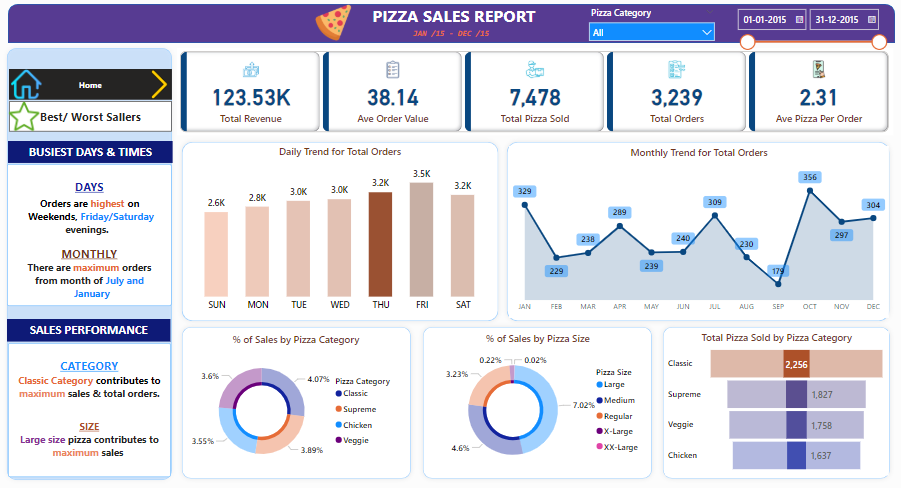

The dashboard page shown, as its layout file describes it:
{"tool":"powerbi","page":{"name":"Home","canvas":[1500,820],"ordinal":0},"visuals":[{"type":"shape","box":[16.7,78.3,286.7,725],"z":0},{"type":"textbox","box":[25.7,240,270,35.7],"z":1000},{"type":"cardVisual","fields":{"Data":["pizza_sales.Total Revenue","pizza_sales.Ave Order Value","pizza_sales.Total Pizza Sold","pizza_sales.Total Orders","pizza_sales.Ave Pizza Per Order"]},"box":[303.3,86.7,1175,143.3],"z":2000},{"type":"shape","box":[26.2,14.8,1454.7,64],"z":3000},{"type":"textbox","box":[603.5,9.8,300.1,49.2],"z":4000},{"type":"textbox","box":[685.5,47.6,157.4,27.9],"z":5000},{"type":"image","box":[523.2,9.8,73.8,70.5],"z":6000},{"type":"shape","box":[303.3,233.3,535,310],"z":7000},{"type":"columnChart","title":"Daily Trend for Total Orders","fields":{"Category":["pizza_sales.Order Day"],"Y":["pizza_sales.Total Orders"]},"box":[316.7,246.7,508.3,281.7],"z":8000},{"type":"shape","box":[836.7,233.3,643.3,310],"z":9000},{"type":"areaChart","title":"Monthly Trend for Total Orders","fields":{"Y":["pizza_sales.Total Orders"],"Category":["pizza_sales.Order Month"]},"box":[848.3,248.3,623.3,281.7],"z":10000},{"type":"shape","box":[303.3,536.7,391.7,265],"z":11000},{"type":"shape","box":[1091.7,536.7,388.3,265],"z":12000},{"type":"shape","box":[698.3,536.7,391.7,265],"z":13000},{"type":"donutChart","title":"% of Sales by Pizza Category","fields":{"Category":["pizza_sales.pizza_category"],"Y":["pizza_sales.Total Revenue"]},"box":[316.7,555,363.3,235],"z":14000},{"type":"donutChart","title":"% of Sales by Pizza Size","fields":{"Y":["pizza_sales.Total Revenue"],"Category":["pizza_sales.pizza_size"]},"box":[713.3,553.3,363.3,235],"z":15000},{"type":"funnel","title":"Total Pizza Sold by Pizza Category","fields":{"Y":["pizza_sales.Total Pizza Sold"],"Category":["pizza_sales.pizza_category"]},"box":[1103.3,551.7,366.7,236.7],"z":16000},{"type":"textbox","box":[25,276.7,270,233.3],"z":17000},{"type":"textbox","box":[26.7,570,266.7,220],"z":18000},{"type":"textbox","box":[25,531.7,268.3,36.7],"z":19000},{"type":"slicer","fields":{"Values":["pizza_sales.pizza_category"]},"box":[969.2,13.1,226.3,62.3],"z":20000},{"type":"multiRowCard","fields":{"Values":["pizza_sales.order_date"]},"box":[1210.3,13.1,265.7,83.6],"z":21000},{"type":"pageNavigator","box":[27.1,121.4,267.1,50],"z":22000},{"type":"pageNavigator","box":[27.1,174.3,267.1,50],"z":23000},{"type":"image","box":[246.7,118.3,56.7,56.7],"z":24000},{"type":"image","box":[26.7,116.7,60,60],"z":25000},{"type":"image","box":[20,168.3,66.7,60],"z":26000}]}

Visuals, with their boxes in screenshot pixels (x1, y1, x2, y2), scaled from the page's 1500x820 canvas onto the 901x488 screenshot:
shape: bbox(10, 47, 182, 478)
textbox: bbox(15, 143, 178, 164)
cardVisual - pizza_sales.Total Revenue x pizza_sales.Ave Order Value: bbox(182, 52, 888, 137)
shape: bbox(16, 9, 890, 47)
textbox: bbox(363, 6, 543, 35)
textbox: bbox(412, 28, 506, 45)
image: bbox(314, 6, 359, 48)
shape: bbox(182, 139, 504, 323)
"Daily Trend for Total Orders" columnChart: bbox(190, 147, 496, 314)
shape: bbox(503, 139, 889, 323)
"Monthly Trend for Total Orders" areaChart: bbox(510, 148, 884, 315)
shape: bbox(182, 319, 417, 477)
shape: bbox(656, 319, 889, 477)
shape: bbox(419, 319, 655, 477)
"% of Sales by Pizza Category" donutChart: bbox(190, 330, 408, 470)
"% of Sales by Pizza Size" donutChart: bbox(428, 329, 647, 469)
"Total Pizza Sold by Pizza Category" funnel: bbox(663, 328, 883, 469)
textbox: bbox(15, 165, 177, 304)
textbox: bbox(16, 339, 176, 470)
textbox: bbox(15, 316, 176, 338)
slicer - pizza_sales.pizza_category: bbox(582, 8, 718, 45)
multiRowCard - pizza_sales.order_date: bbox(727, 8, 887, 58)
pageNavigator: bbox(16, 72, 177, 102)
pageNavigator: bbox(16, 104, 177, 133)
image: bbox(148, 70, 182, 104)
image: bbox(16, 69, 52, 105)
image: bbox(12, 100, 52, 136)
